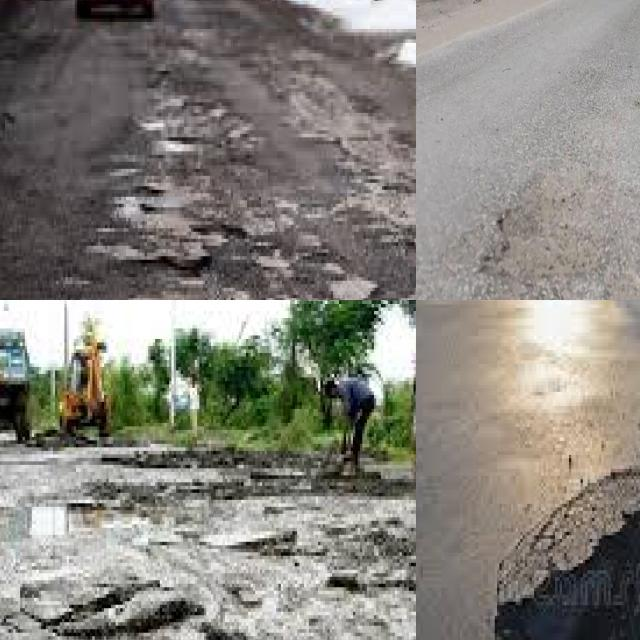Pothole: (0, 500, 416, 640), (492, 469, 640, 640), (480, 162, 612, 300), (607, 277, 640, 300)
